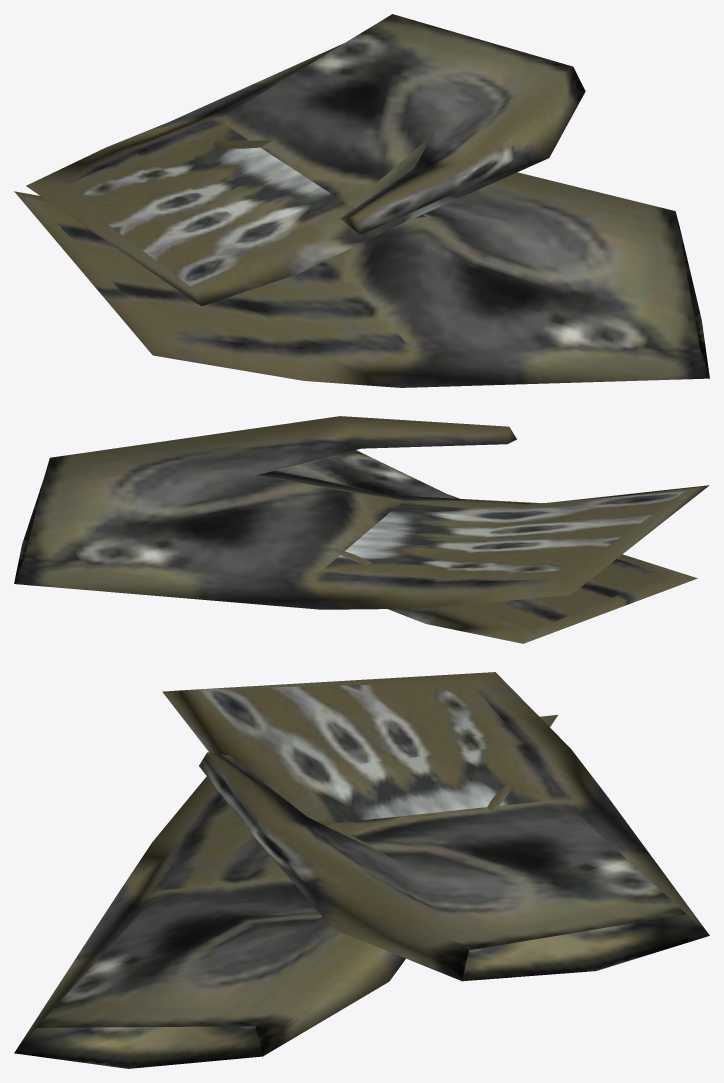
The model's file is f_Hands2.glb.
The picture shows the model from 3 angles, top to bottom: view 1: azimuth 30°, elevation 25°; view 2: azimuth 150°, elevation 25°; view 3: azimuth 270°, elevation 25°; orthographic projection. The views are drawn at different scales.
Parts seen in each view (by area): view 1: Hands2; view 2: Hands2; view 3: Hands2.
Part boxes in pixels (x1,y1,x2,y2): Hands2: (14,14,709,387); Hands2: (14,416,709,643); Hands2: (14,672,709,1068).
Size of the model in its own units: 8.78 by 2.44 by 9.17.
Materials: 1 (1 with a texture image).
